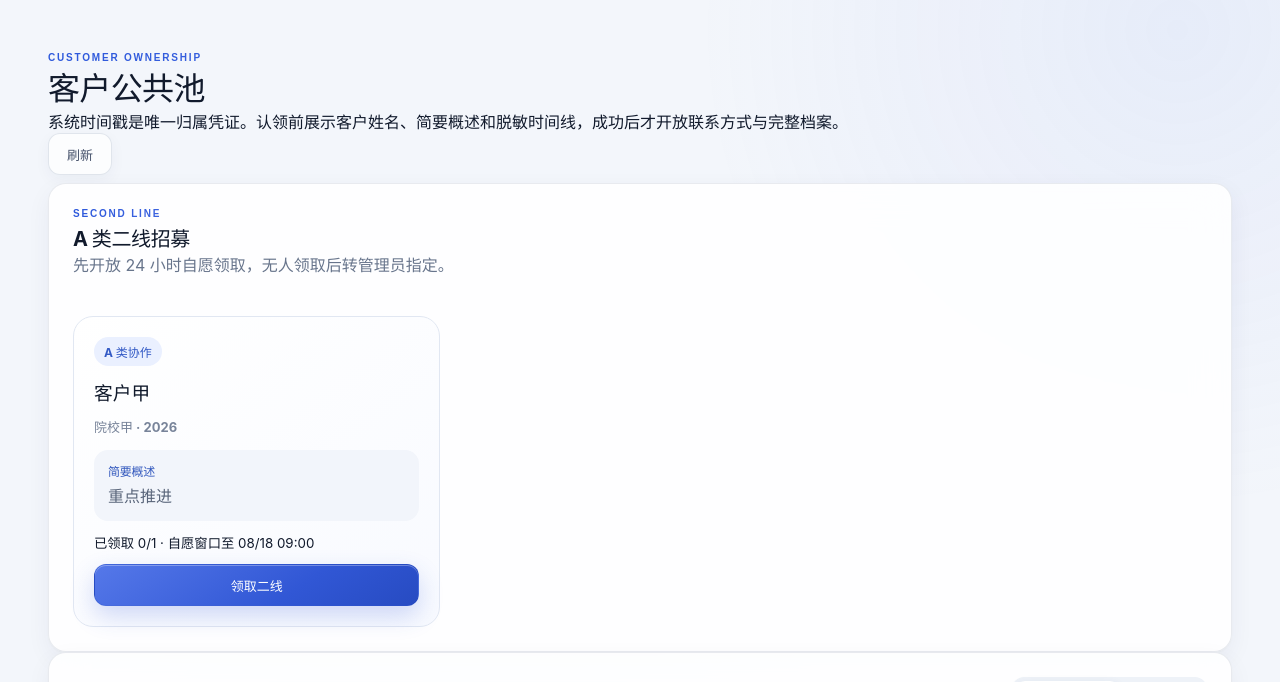
it: customer public pool › claims an A-class second-line role through its constrained endpoint
The width and height of the screenshot is (1280, 682).
What coordinates should you click on to do the following:
click the button "领取二线"
I would click on:
 (257, 585)
Its box is [94, 564, 419, 606].
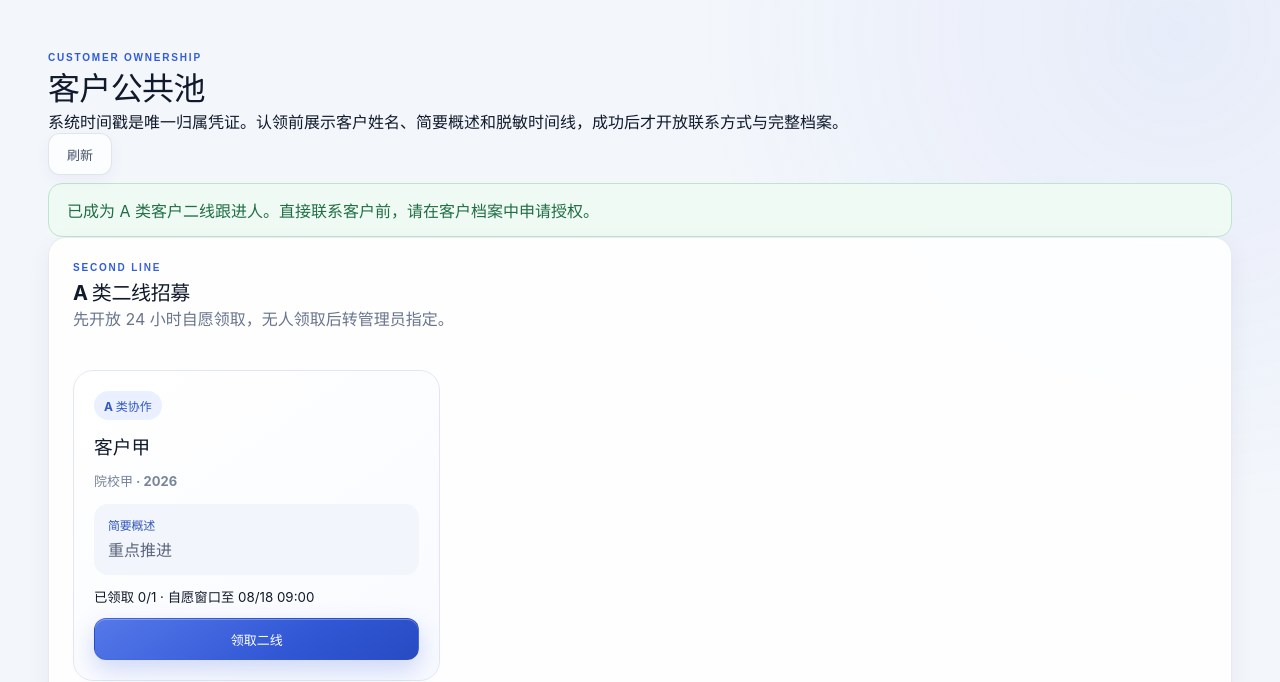
Expected: the text "直接联系客户前，请在客户档案中申请授权" is shown, [67, 201, 599, 221]
